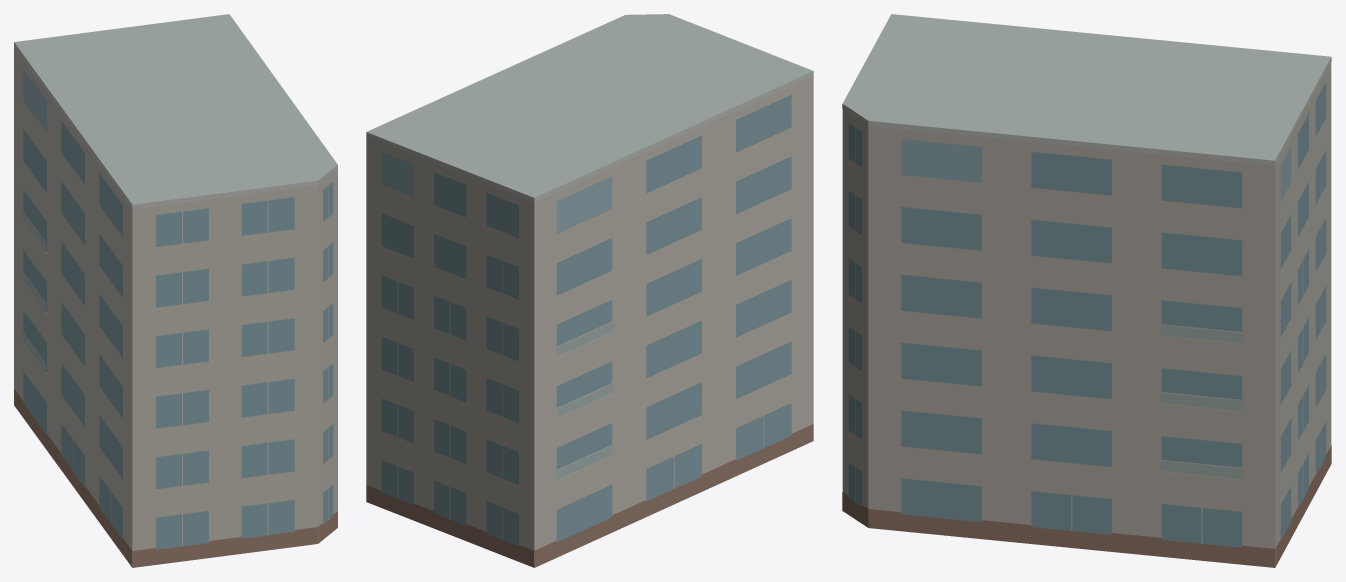
Rendered from survey-upis-32864868.glb.
The picture shows the model from 3 angles, left to right: view 1: azimuth 30°, elevation 25°; view 2: azimuth 150°, elevation 25°; view 3: azimuth 270°, elevation 25°; orthographic projection. The views are drawn at different scales.
Parts seen in each view (by area): view 1: survey-upis-32864868.tmp; view 2: survey-upis-32864868.tmp; view 3: survey-upis-32864868.tmp.
Boxes of the visible parts, x1,y1,x2,y2 form: survey-upis-32864868.tmp: (14,14,337,567); survey-upis-32864868.tmp: (366,14,813,567); survey-upis-32864868.tmp: (842,14,1331,567).
Bounding box in the file's own units: 14.71 × 19.03 × 20.72.
